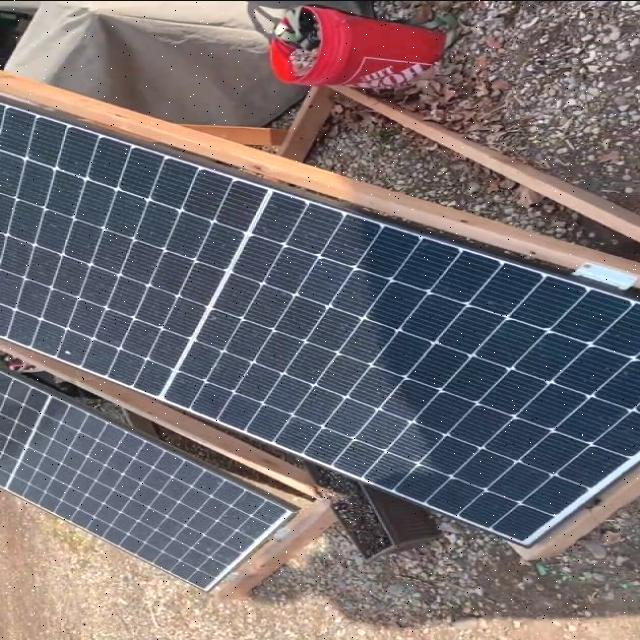Normal Solar Panel: (1, 104, 640, 544), (0, 372, 292, 590)
